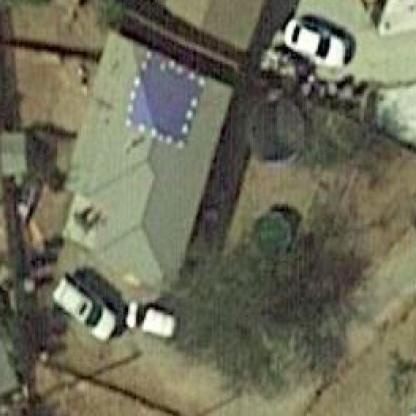car: (43, 267, 119, 346), (277, 20, 362, 70), (121, 293, 180, 348)
